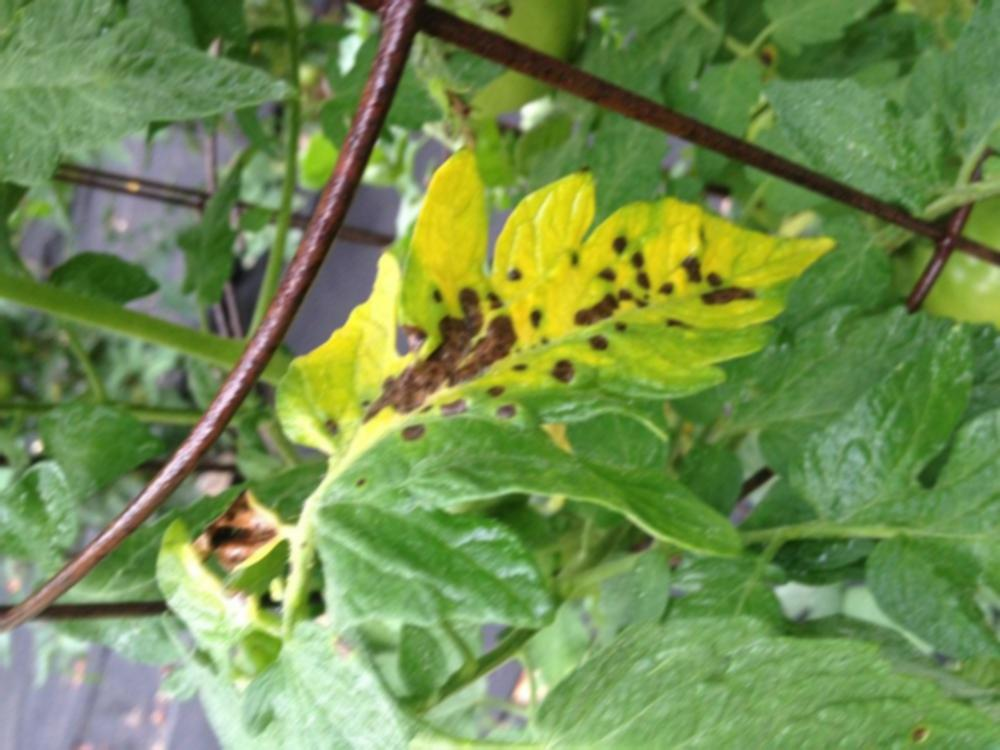Tomato leaf bacterial spot: (258, 146, 851, 487)
